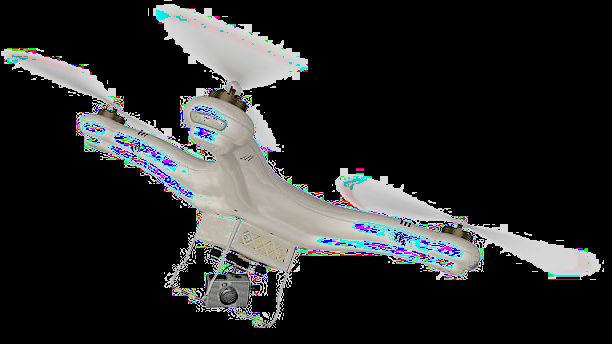Drone: (2, 3, 604, 332)
